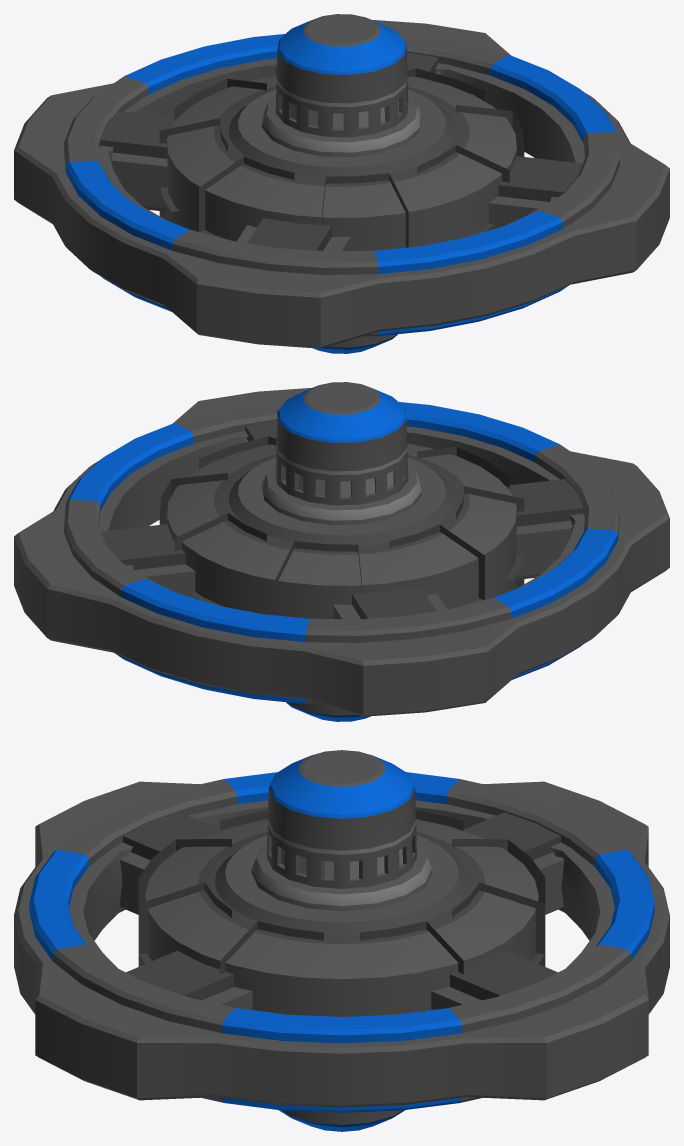
The model's file is 01_structure_supply_2x2.glb.
The picture shows the model from 3 angles, top to bottom: view 1: azimuth 30°, elevation 25°; view 2: azimuth 150°, elevation 25°; view 3: azimuth 270°, elevation 25°; orthographic projection. The views are drawn at different scales.
Parts seen in each view (by area): view 1: 01_structure_supply_2x2; view 2: 01_structure_supply_2x2; view 3: 01_structure_supply_2x2.
Part boxes in pixels (x1,y1,x2,y2): 01_structure_supply_2x2: [14, 14, 669, 353]; 01_structure_supply_2x2: [14, 382, 669, 721]; 01_structure_supply_2x2: [14, 750, 669, 1131].
Bounding box in the file's own units: 1 × 0.5841 × 1.
